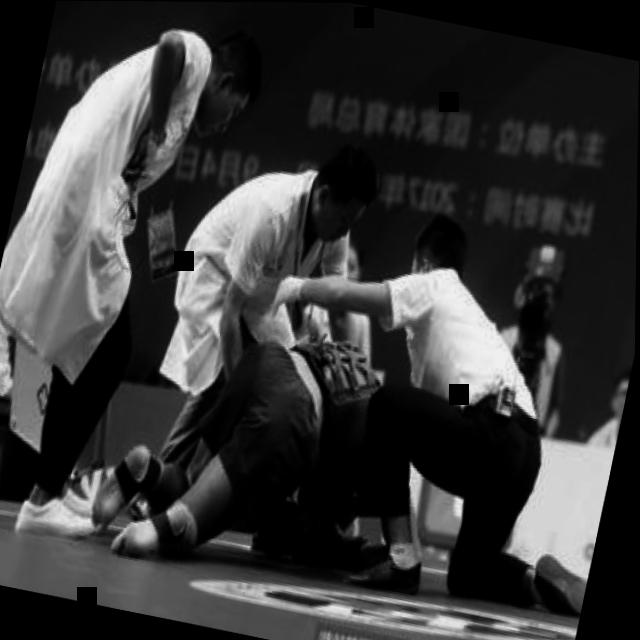Fall-Detected: (81, 276, 426, 603)
